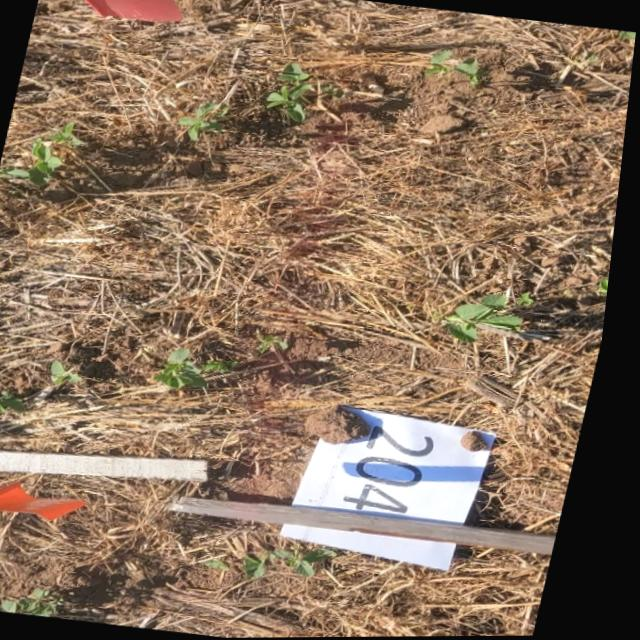soy_plant: (0, 124, 82, 185), (452, 294, 529, 343), (163, 349, 244, 388), (255, 548, 348, 578), (267, 63, 313, 121), (425, 50, 484, 87), (162, 349, 215, 388), (180, 103, 229, 140), (13, 589, 74, 617), (57, 360, 89, 385), (0, 391, 34, 412), (263, 334, 295, 353), (521, 292, 540, 307), (217, 560, 240, 570), (604, 280, 615, 300), (619, 32, 637, 43)
